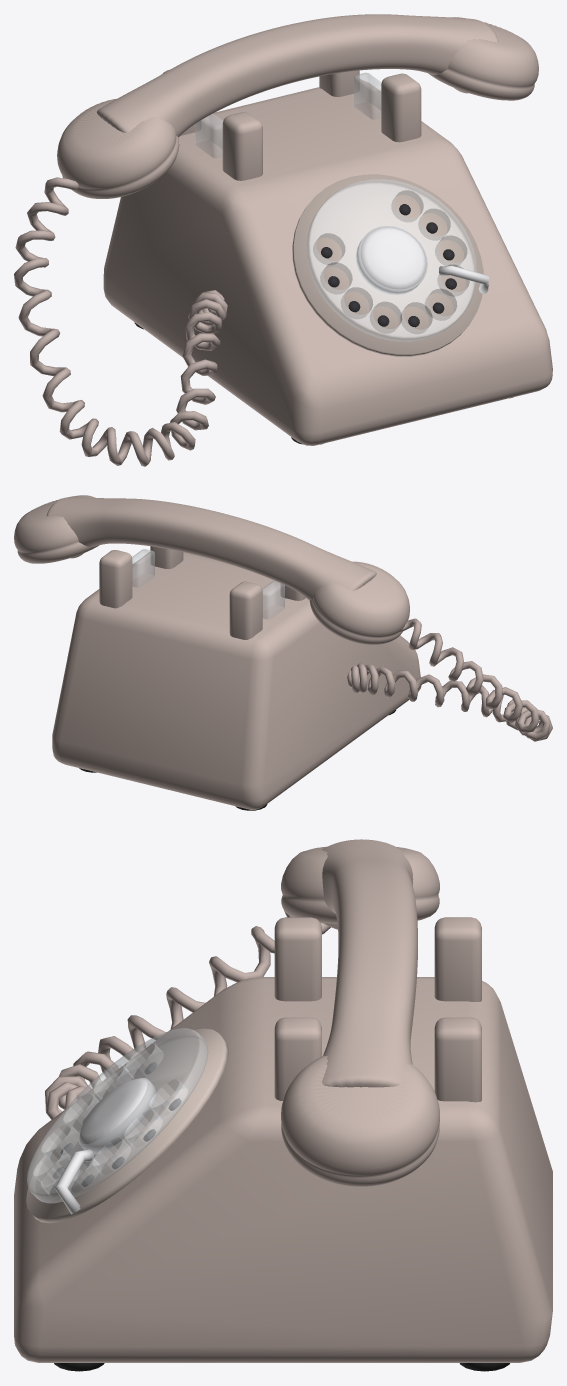
The picture shows the model from 3 angles, top to bottom: view 1: azimuth 30°, elevation 25°; view 2: azimuth 150°, elevation 25°; view 3: azimuth 270°, elevation 25°; orthographic projection. The views are drawn at different scales.
Parts seen in each view (by area): view 1: Merged_ABS_Housing, Merged_Dial_Card, Merged_Clear_Acrylic, Merged_Coiled_Cord_Mat, Merged_Chrome_Metal, Merged_Dark_Ink; view 2: Merged_ABS_Housing, Merged_Coiled_Cord_Mat, Merged_Clear_Acrylic; view 3: Merged_ABS_Housing, Merged_Dial_Card, Merged_Clear_Acrylic, Merged_Coiled_Cord_Mat, Merged_Chrome_Metal, Merged_Dark_Ink, Merged_Rubber_Feet.
Boxes of the visible parts, <box> form: Merged_ABS_Housing: <box>57,14,552,445</box>; Merged_Dial_Card: <box>292,174,483,356</box>; Merged_Clear_Acrylic: <box>195,72,476,341</box>; Merged_Coiled_Cord_Mat: <box>14,177,227,466</box>; Merged_Chrome_Metal: <box>355,226,489,295</box>; Merged_Dark_Ink: <box>321,204,456,327</box>; Merged_ABS_Housing: <box>14,495,421,809</box>; Merged_Coiled_Cord_Mat: <box>347,618,552,741</box>; Merged_Clear_Acrylic: <box>132,549,284,618</box>; Merged_ABS_Housing: <box>14,839,552,1362</box>; Merged_Dial_Card: <box>26,1028,228,1223</box>; Merged_Clear_Acrylic: <box>27,1028,208,1203</box>; Merged_Coiled_Cord_Mat: <box>45,910,330,1119</box>; Merged_Chrome_Metal: <box>55,1078,157,1214</box>; Merged_Dark_Ink: <box>52,1062,181,1186</box>; Merged_Rubber_Feet: <box>54,1363,509,1371</box>.
Size of the model in its own units: 0.28 by 0.1423 by 0.1806.
